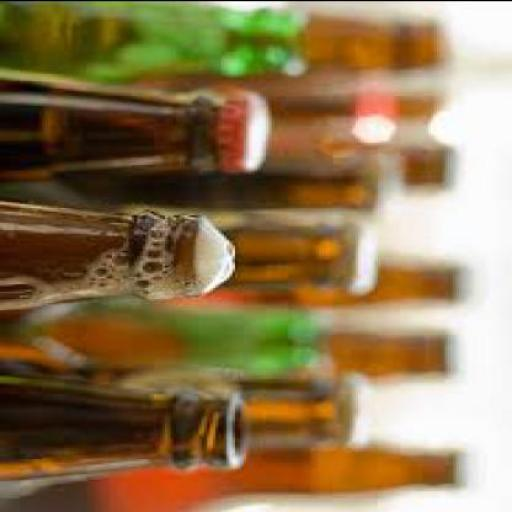glass: (1, 448, 463, 511), (3, 368, 246, 480), (3, 304, 331, 382), (3, 2, 313, 82), (2, 207, 222, 311), (2, 84, 226, 180), (2, 162, 389, 211), (213, 214, 378, 294), (263, 69, 397, 143), (300, 8, 447, 72), (243, 370, 355, 450), (305, 258, 462, 308), (324, 330, 456, 381)
metal: (218, 93, 274, 173), (358, 80, 400, 144)
